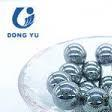ironball: (51, 80, 80, 111), (83, 85, 111, 111), (63, 42, 87, 64), (59, 62, 81, 83), (82, 62, 104, 81), (49, 70, 71, 87), (78, 81, 95, 101), (95, 43, 111, 63), (99, 74, 111, 98), (109, 82, 111, 111)
